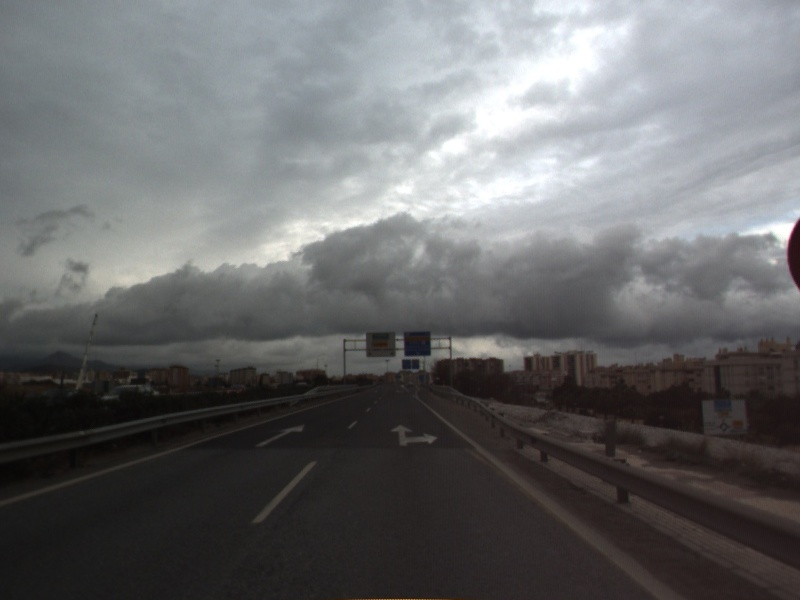STRAIGHT: (252, 422, 307, 449)
STRAIGHT_RIGHT: (388, 422, 440, 448)
